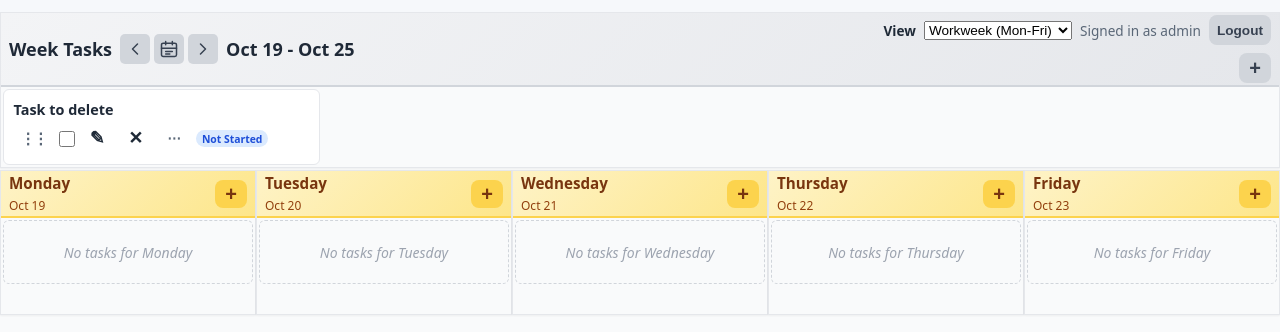
it: BoardPage week navigation › cancels or confirms permanent task deletion
Click the button named "Task 1: Delete task: Task to delete" at (136, 139), box 120,123 -> 152,154
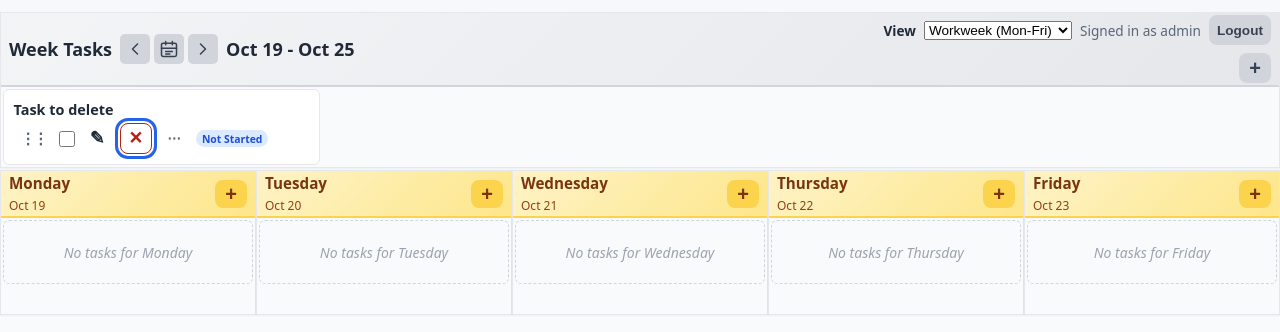
expect the text "Task to delete" is shown: met, box 14,100 -> 113,119
Click the button named "Task 1: Delete task: Task to delete" at (136, 139), box 120,123 -> 152,154
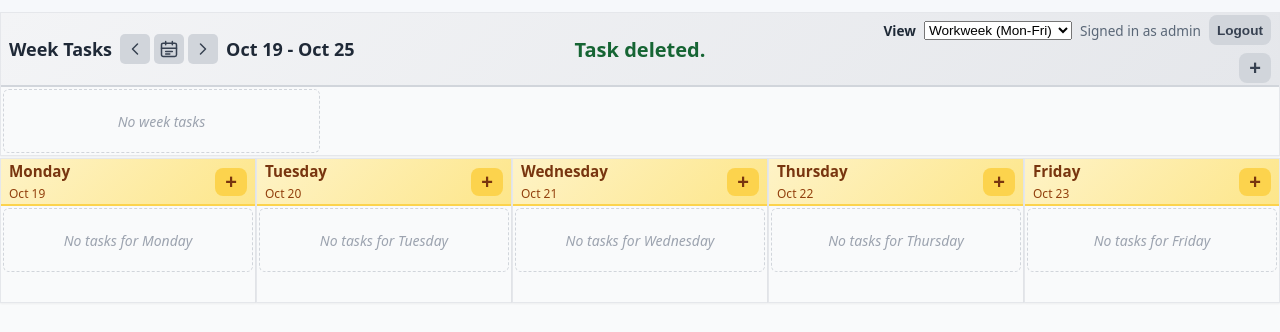
expect the text "Task to delete" is gone: met
